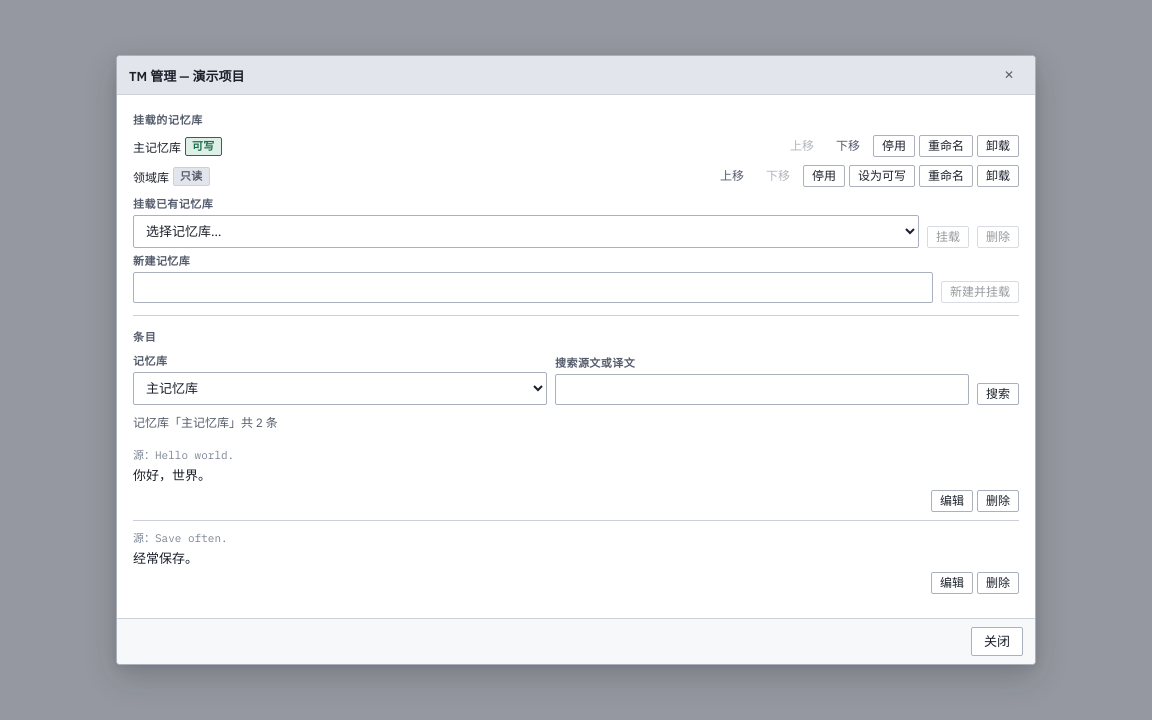
Test: TmManageDialog › attaches an existing memory read-only
This screenshot has width=1152, height=720.
Select "参考库" in the dropdown labelled "挂载已有记忆库" at (526, 232), box [133,215,919,248]
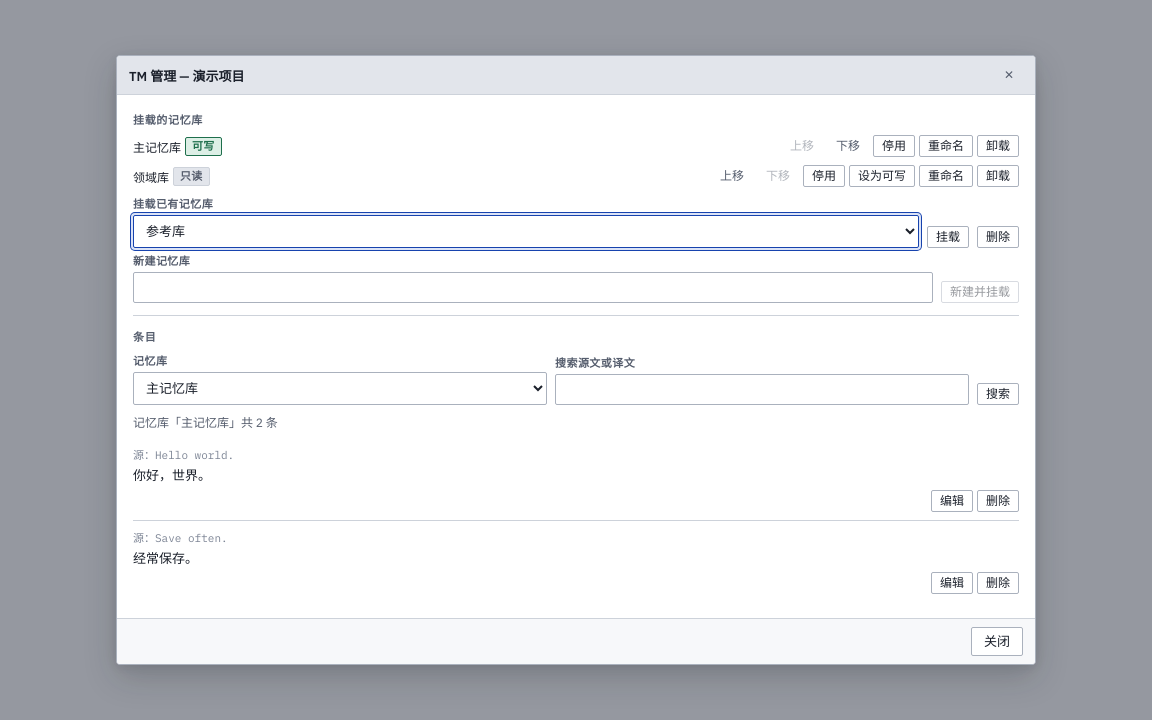
Click the button "挂载" at (948, 237), box [927,226,969,248]
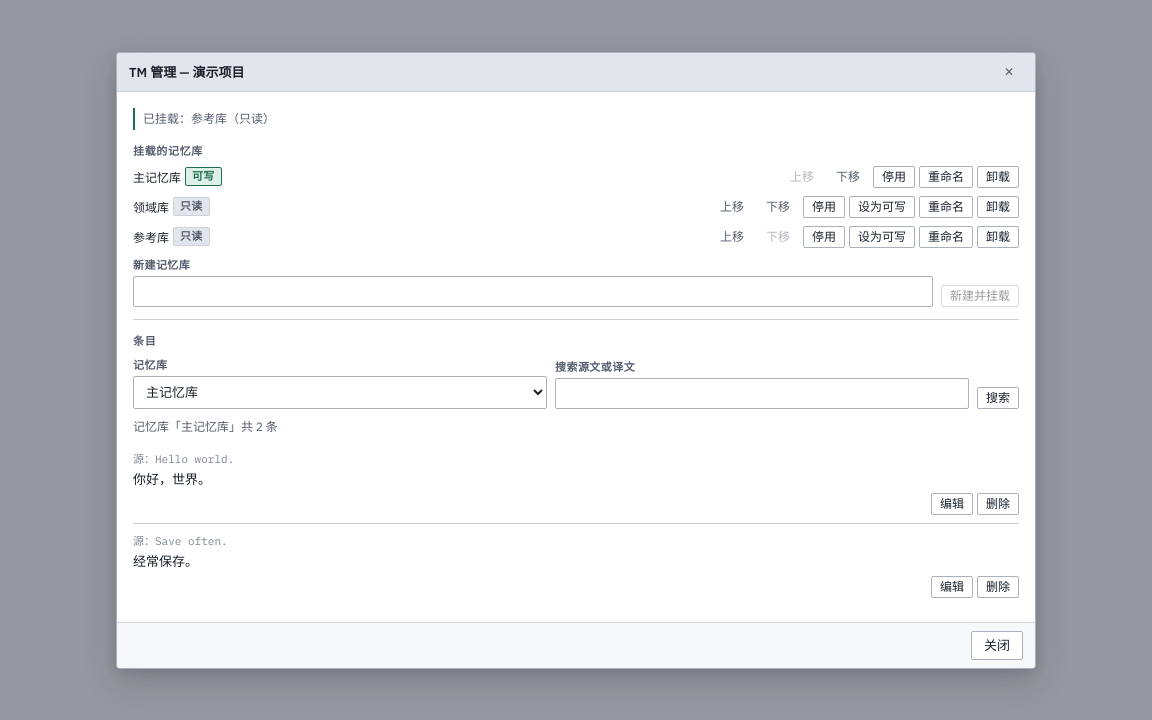
Now the message reads "已挂载：参考库（只读）", box [143,110,275,126]
Now the button with aria-label "卸载记忆库 参考库" is shown, box [977,226,1019,248]
Now the text "只读" is shown 2 times, box [173,197,210,216]; [173,227,210,246]
